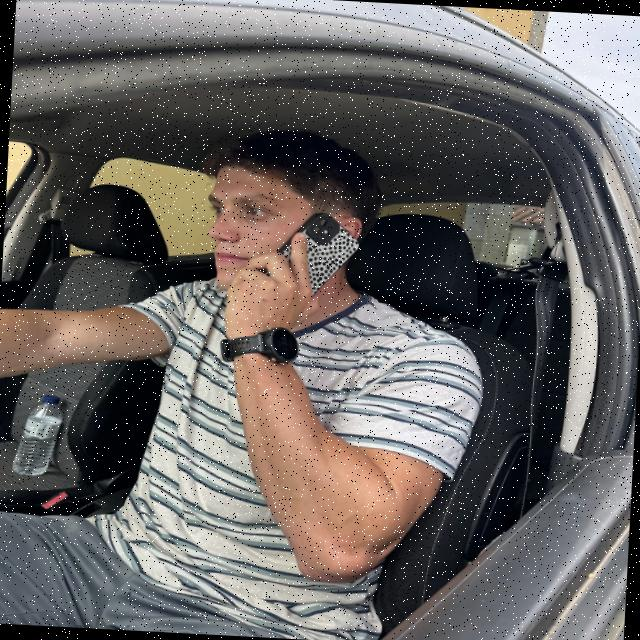Phone: (222, 206, 367, 324)
